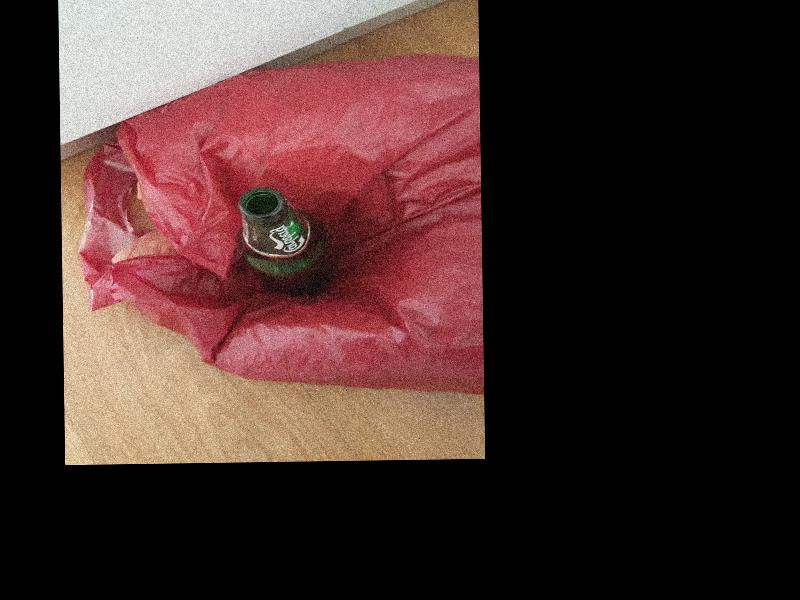Beer: (238, 187, 329, 297)
